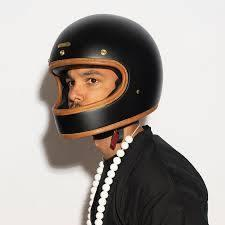helmet: (47, 13, 164, 140)
